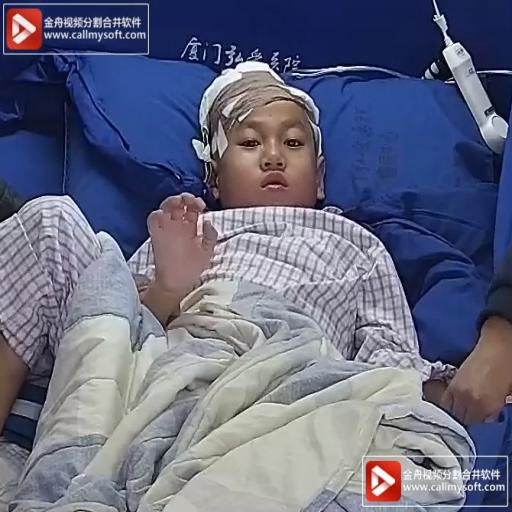Netural: (193, 65, 335, 211)
